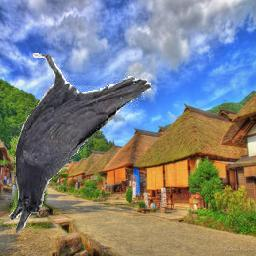Crow: (9, 53, 152, 235)
